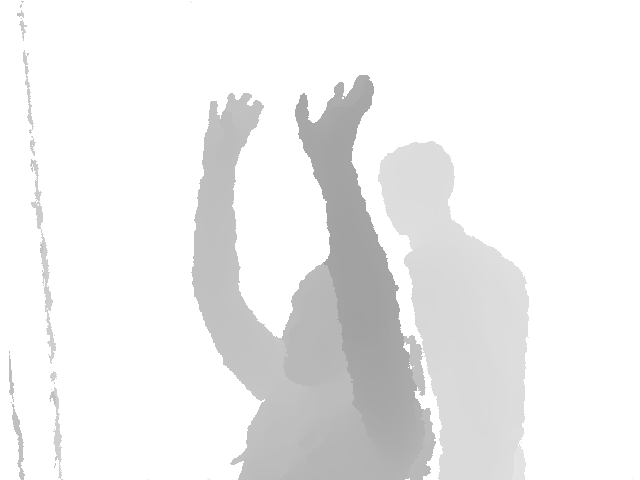hand: (294, 74, 375, 162), (201, 90, 266, 164)
head: (281, 261, 368, 386), (377, 141, 469, 237)
person: (189, 74, 437, 480), (376, 140, 532, 480)
